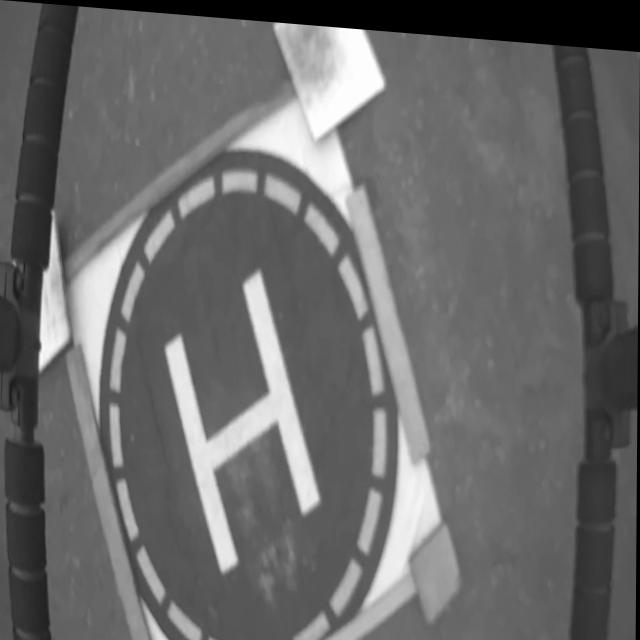Helipad: (164, 266, 323, 572)
